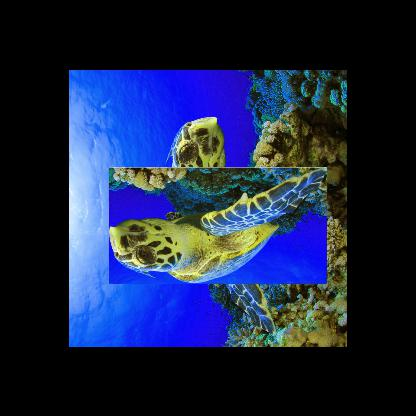turtle: (134, 140, 300, 308)
